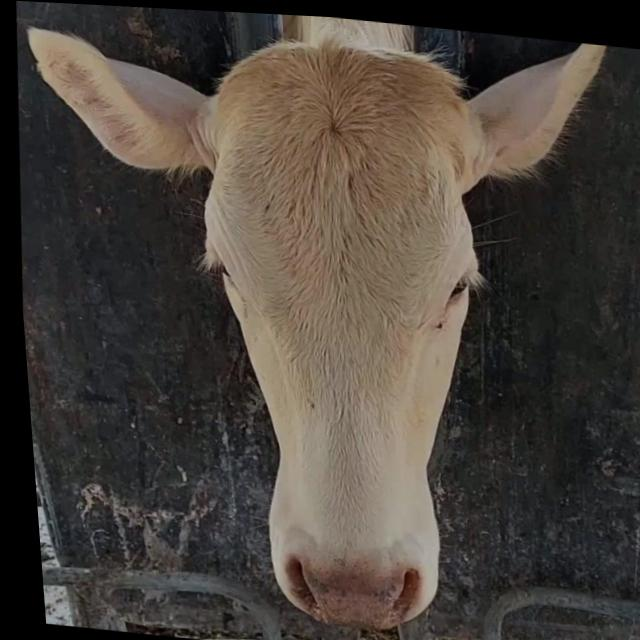cowFace: (166, 24, 513, 633)
